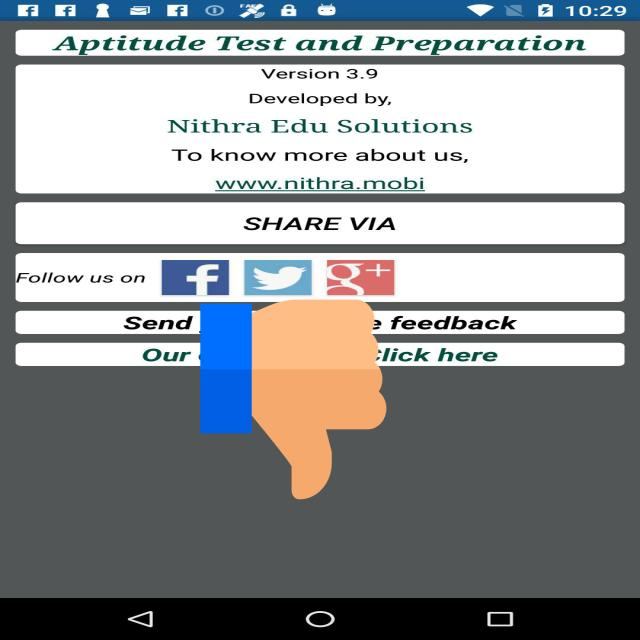obstruction: (200, 295, 387, 504)
